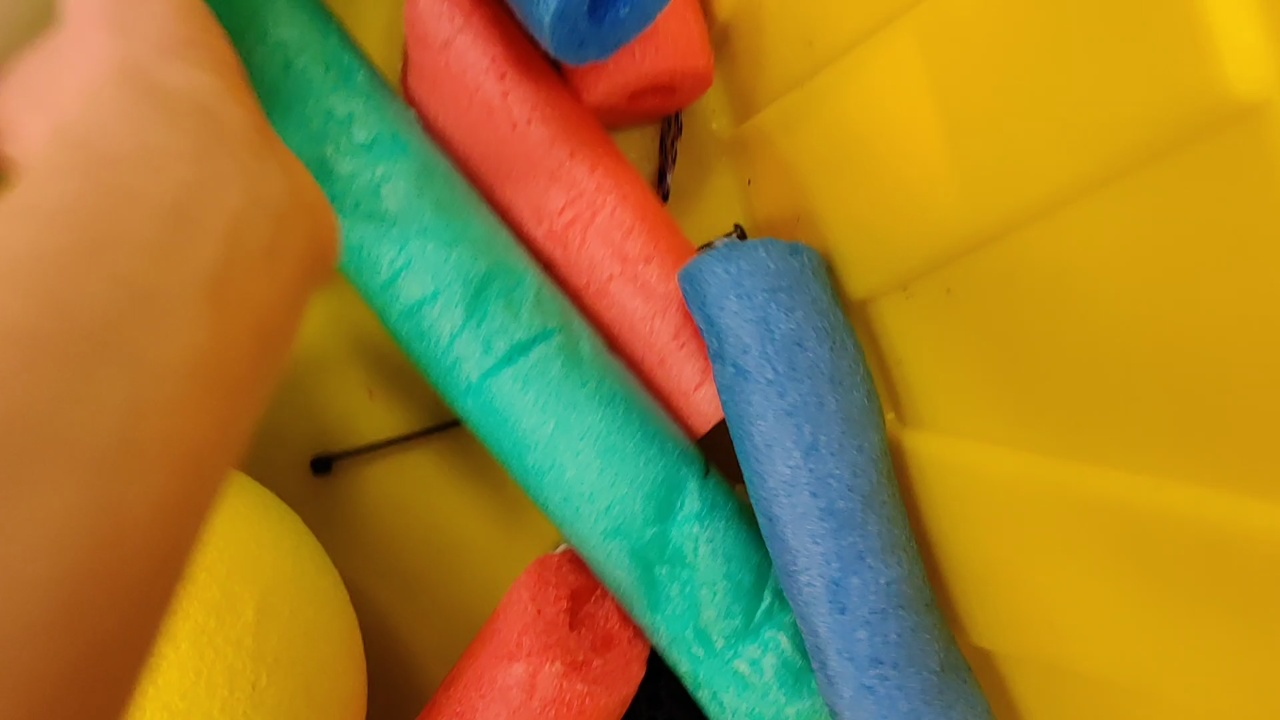Ball: (117, 462, 368, 718)
